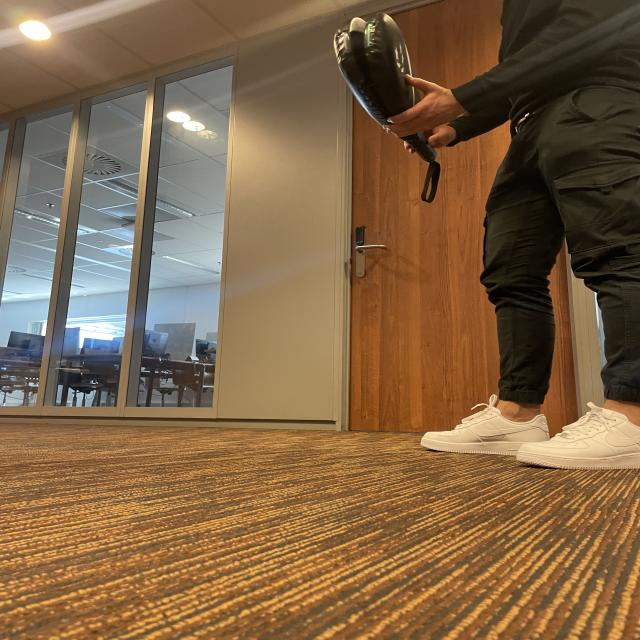paddle: (342, 12, 417, 117)
trigger: (363, 22, 379, 48)
